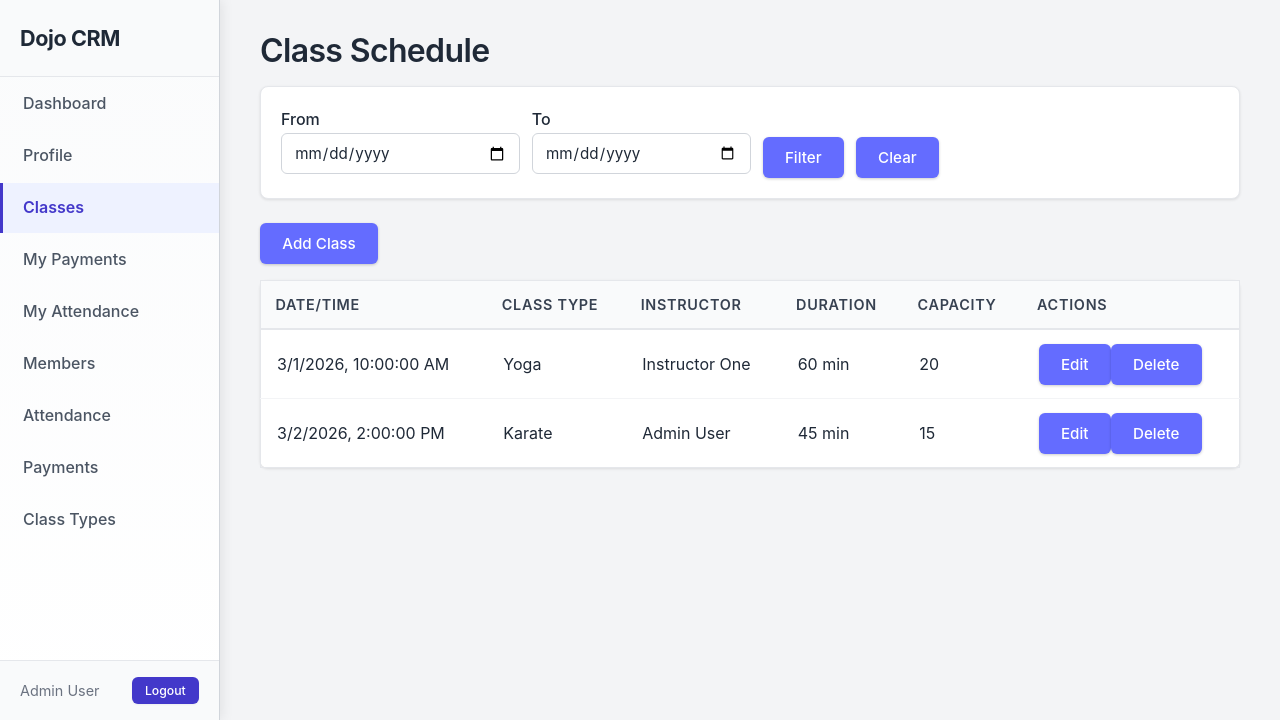
Classes › deletes a class when admin confirms
The width and height of the screenshot is (1280, 720).
Expected: the heading "Class Schedule" is shown, 260,31 -> 489,70
Click the button "Delete" in the row of "3/1/2026, 10:00:00 AM". click: [1156, 364]
box: 1111,344 -> 1202,385
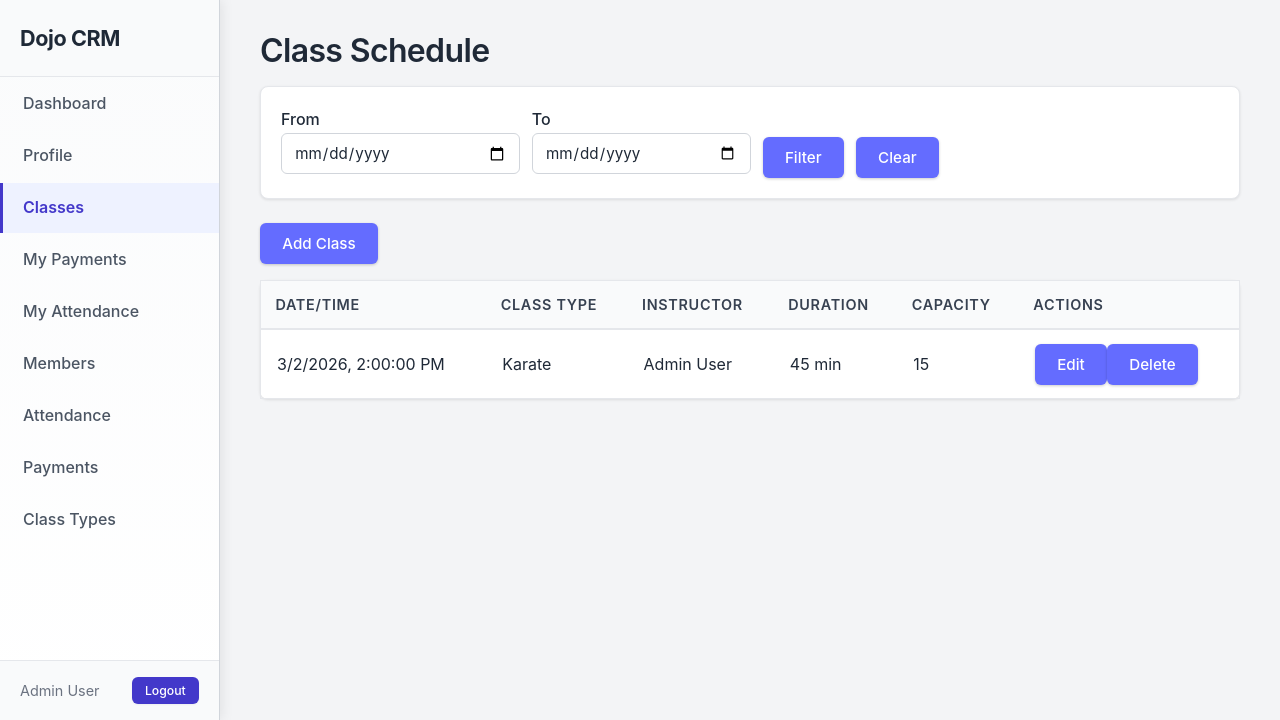
Expected: the number of rows is 2, 260,280 -> 1240,330; 260,330 -> 1240,399
